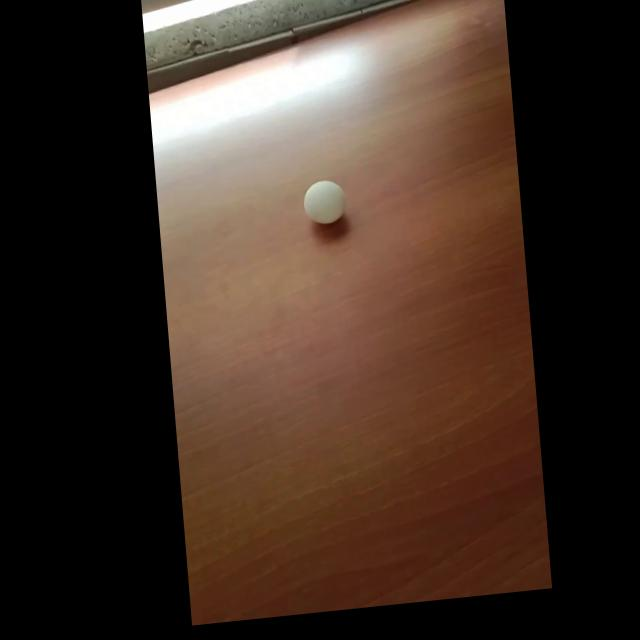white ball: (301, 178, 347, 227)
